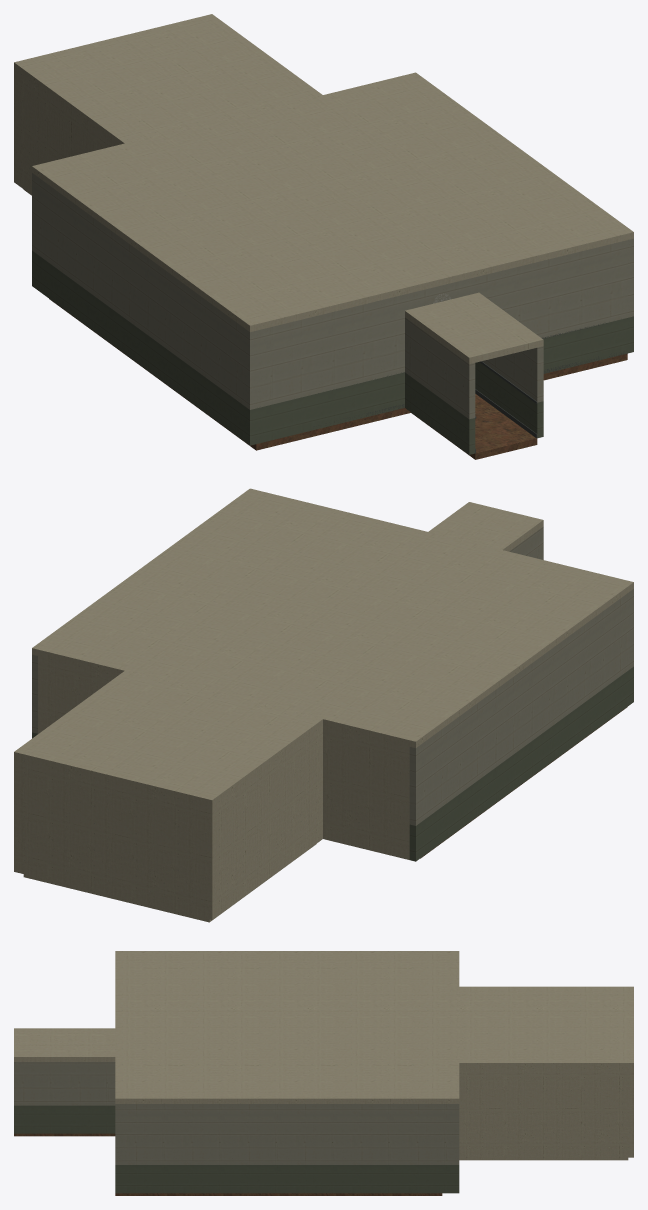
Rendered from control.glb.
3 views of the same model, one above another, from view 1: azimuth 30°, elevation 25°; view 2: azimuth 150°, elevation 25°; view 3: azimuth 270°, elevation 25° (orthographic). The views are drawn at different scales.
Visible parts, largest first — view 1: CTL_static; view 2: CTL_static; view 3: CTL_static.
Part boxes in pixels (x1,y1,x2,y2): CTL_static: (14,14,633,459); CTL_static: (14,488,633,922); CTL_static: (14,951,633,1195).
Bounding box in the file's own units: 12.4 × 3.9 × 22.
22 materials, 11 textured.
